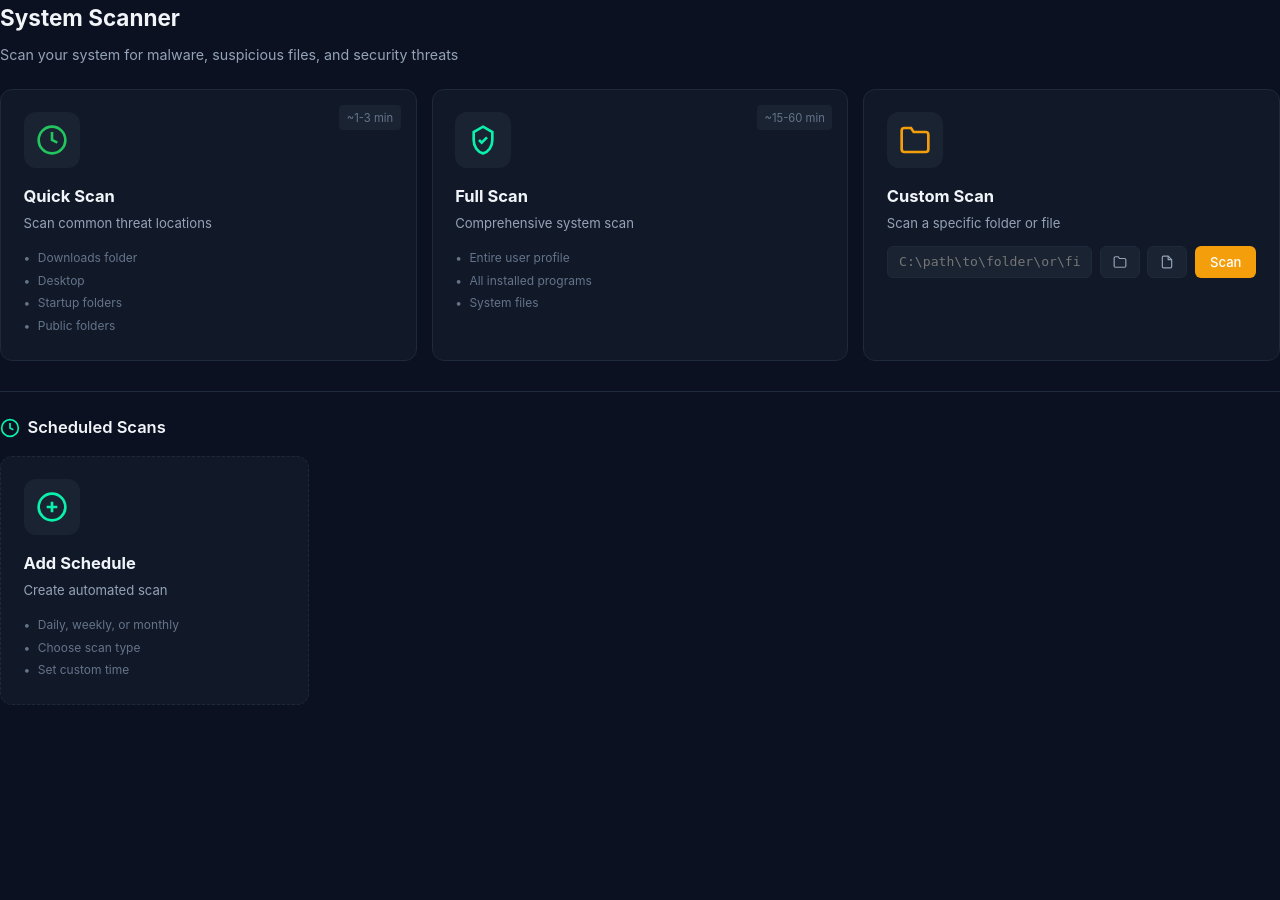
Test: Scanner › hydrates malware details after full scan completion
The width and height of the screenshot is (1280, 900).
Click the heading "Full Scan" at [492, 196], box [455,186,528,206]
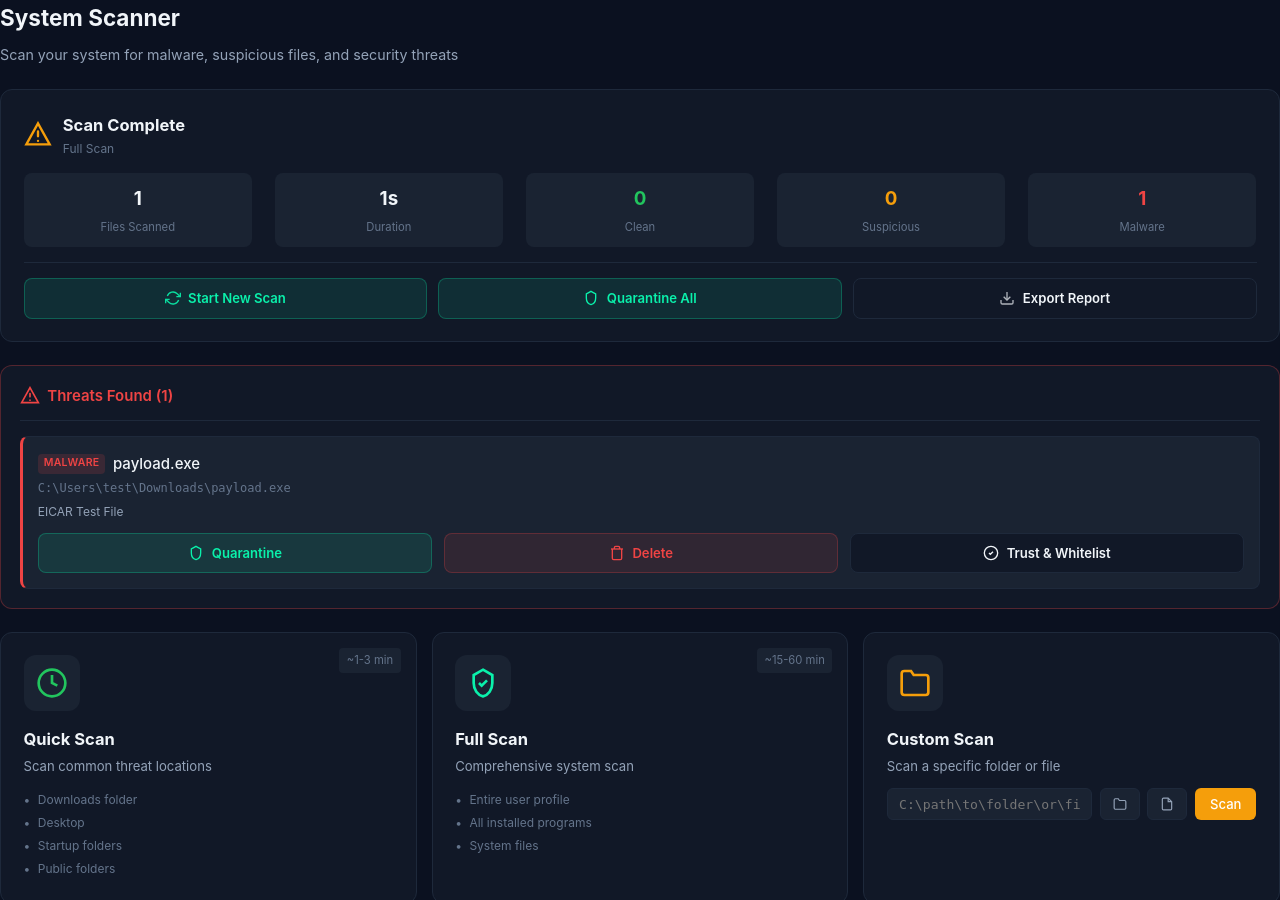
expect the text "EICAR Test File" is shown: met, box [38,504,124,519]
expect the text "payload.exe" is shown: met, box [113,452,200,476]
expect the heading "Threats Found (1)" is shown: met, box [20,384,173,408]
